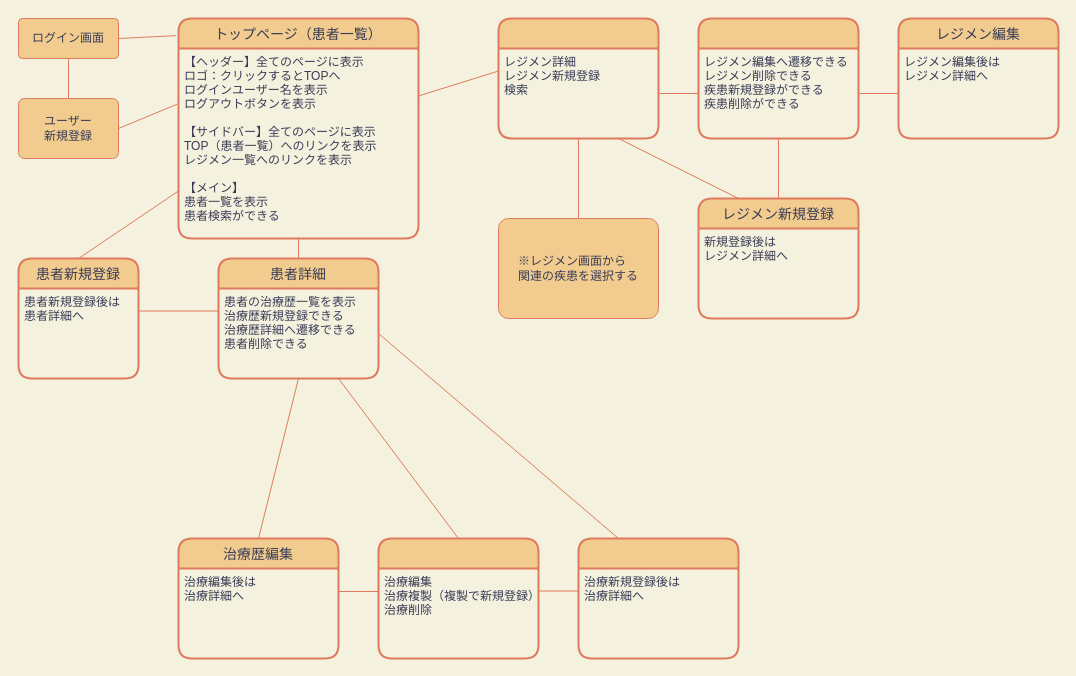
The diagram is 1076 pixels wide and 676 high, and some of its shapes have lost their labels. The shapes that lost their labels are listed below. From the top down, each one's box as (x1, y1, x2, y2) in pixels, then its label:
(497, 17, 659, 139): レジメン一覧
(697, 17, 859, 139): レジメン詳細
(377, 537, 539, 659): 治療歴詳細
(577, 537, 739, 659): 治療歴新規登録
